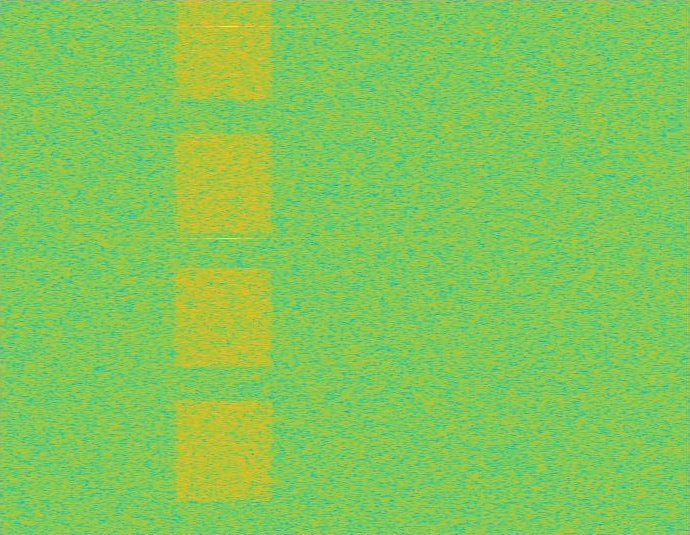5G: (172, 0, 275, 534)
Radar: (222, 0, 236, 534)
